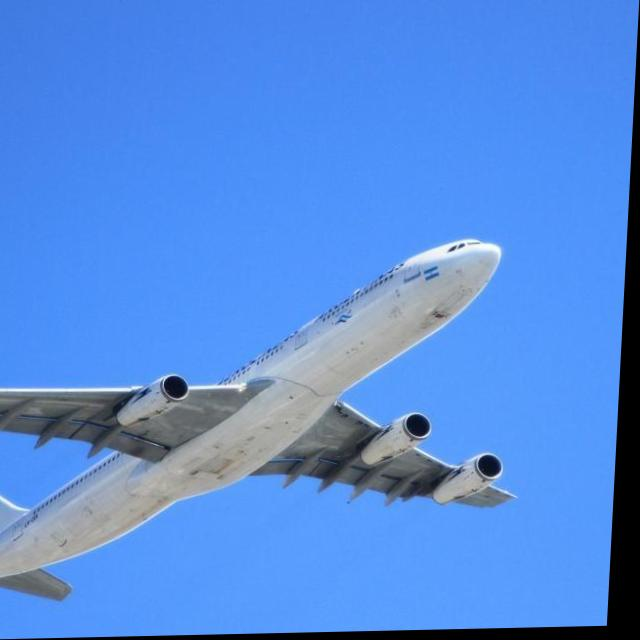airplane: (0, 232, 536, 605)
